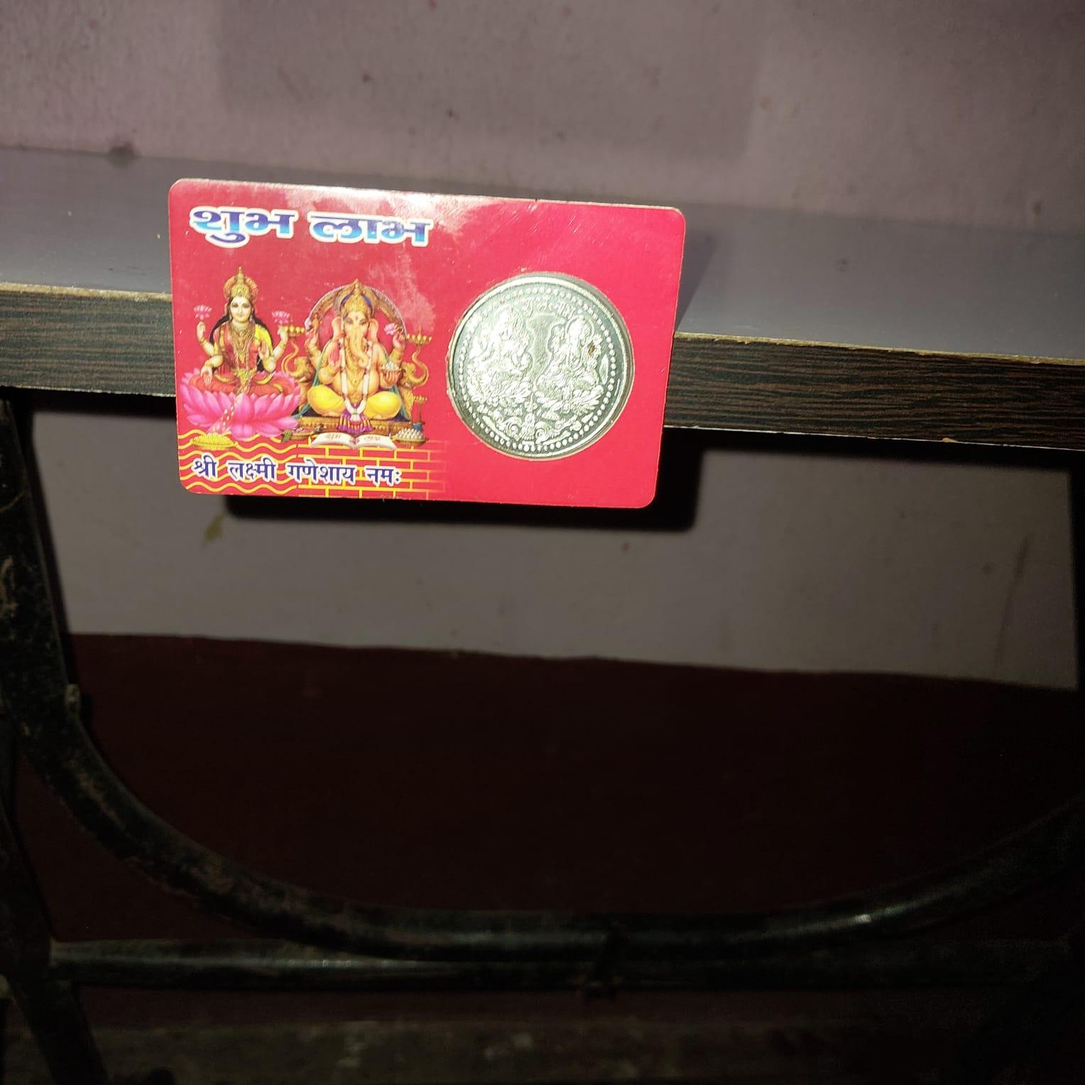blessing_card: (175, 174, 686, 516)
